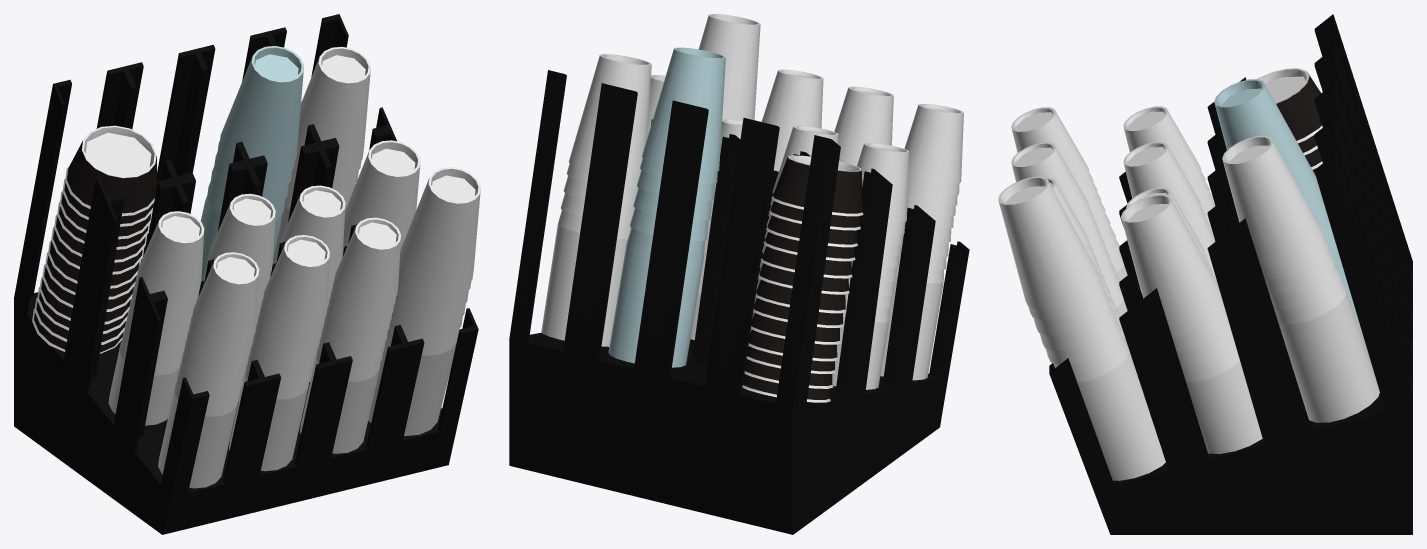
The model's file is LC_3015_CafecupDispenser_LOD2.FBX.
3 views of the same model, side by side, from view 1: azimuth 30°, elevation 25°; view 2: azimuth 150°, elevation 25°; view 3: azimuth 270°, elevation 25° (orthographic). The views are drawn at different scales.
Parts seen in each view (by area): view 1: LC_3015_CafecupDispenser_LOD2; view 2: LC_3015_CafecupDispenser_LOD2; view 3: LC_3015_CafecupDispenser_LOD2.
Boxes of the visible parts, box(x1,y1,x2,y2) form: LC_3015_CafecupDispenser_LOD2: box(14, 14, 480, 534); LC_3015_CafecupDispenser_LOD2: box(509, 14, 969, 534); LC_3015_CafecupDispenser_LOD2: box(998, 14, 1412, 534).
Size of the model in its own units: 30.41 by 38.82 by 36.8.
1 material, 1 textured.
